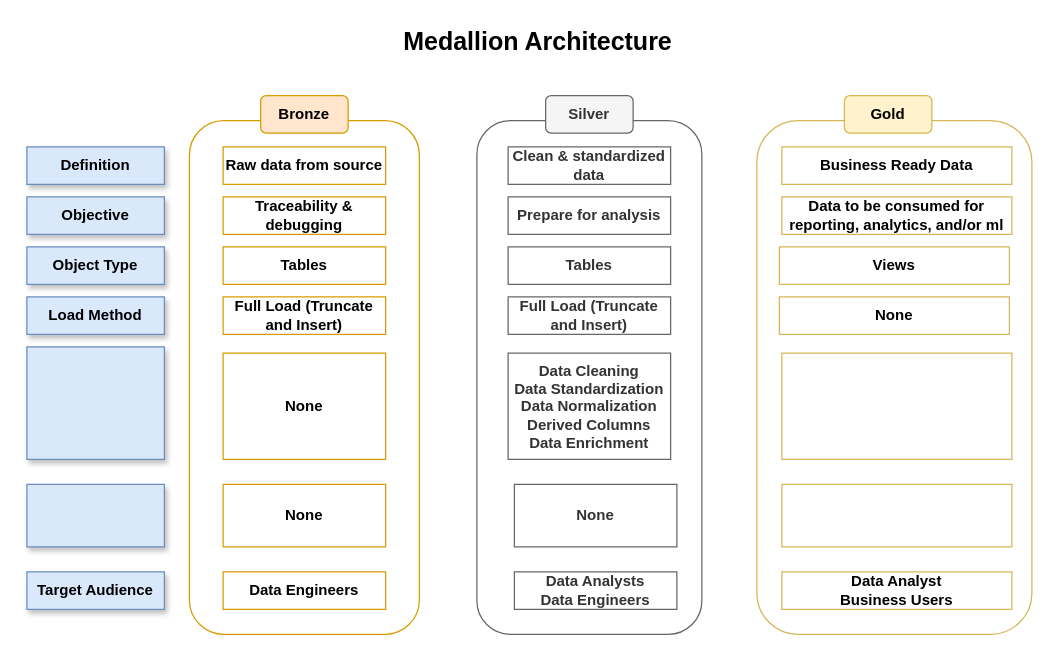
Some shapes in this 1054 by 656 pixel diagram are drawn without their labels. The shapes that lost their labels are listed below. From the top down, each one's centre as x and y in pixels, then its label:
At (x=96, y=404): "Data Transformation".
At (x=896, y=405): "Data Integration Data Aggregation Business Logic & Rules".
At (x=96, y=517): "Data Modeling".
At (x=896, y=515): "Star Schema Aggregated Objects Flat Tables".
